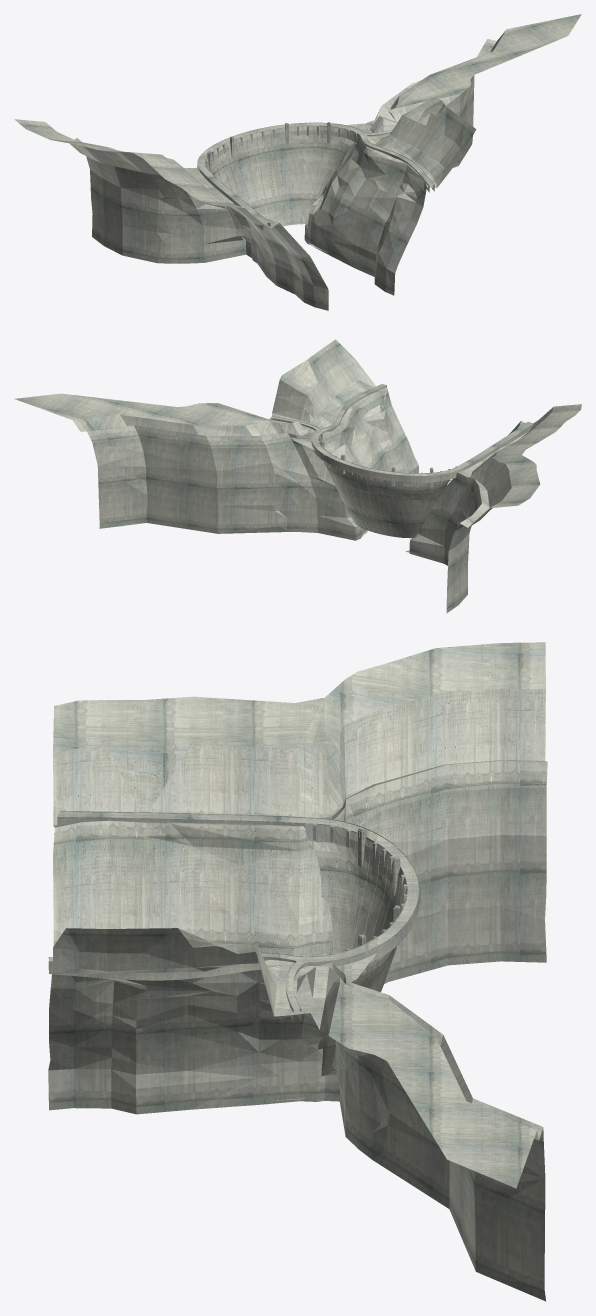
Rendered from daba_huangchigou.obj.
3 renders of one model, top to bottom at view 1: azimuth 30°, elevation 25°; view 2: azimuth 150°, elevation 25°; view 3: azimuth 270°, elevation 25°, orthographic. The views are drawn at different scales.
Parts seen in each view (by area): view 1: enviro, main, way, maintop; view 2: enviro, main, way; view 3: enviro, main, way, maintop.
Boxes of the visible parts, <box> form: enviro: <box>14,14,581,310</box>; main: <box>205,125,359,242</box>; way: <box>197,122,434,230</box>; maintop: <box>205,122,356,171</box>; enviro: <box>14,339,581,613</box>; main: <box>318,432,448,538</box>; way: <box>271,384,533,482</box>; enviro: <box>48,642,547,1301</box>; main: <box>305,823,407,1075</box>; way: <box>48,811,419,1021</box>; maintop: <box>313,823,407,973</box>.
Size of the model in its own units: 7022 by 1707 by 2964.
1 material, 1 textured.
